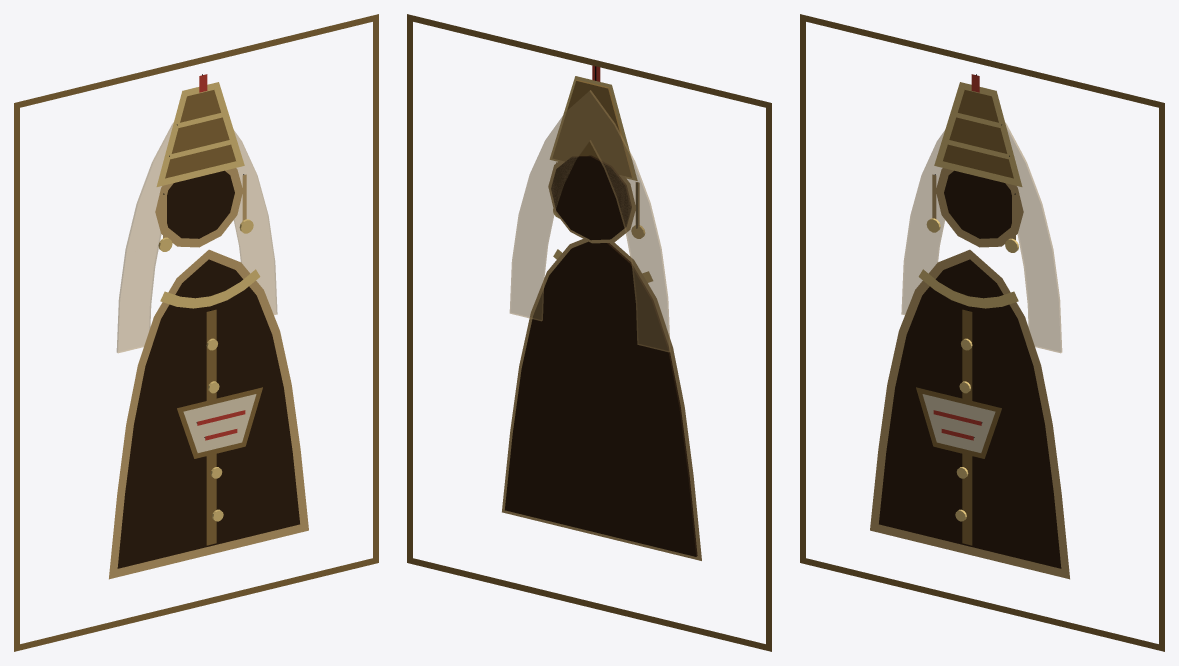
The model's file is npc-nevesta.glb.
The picture shows the model from 3 angles, left to right: view 1: azimuth 30°, elevation 25°; view 2: azimuth 150°, elevation 25°; view 3: azimuth 330°, elevation 25°; orthographic projection.
Visible parts, largest first — view 1: npc-nevesta; view 2: npc-nevesta; view 3: npc-nevesta.
Boxes of the visible parts, <box> form: npc-nevesta: <box>14,14,378,651</box>; npc-nevesta: <box>407,14,771,651</box>; npc-nevesta: <box>800,14,1164,651</box>.
Bounding box in the file's own units: 1.14 × 1.64 × 0.1354.
